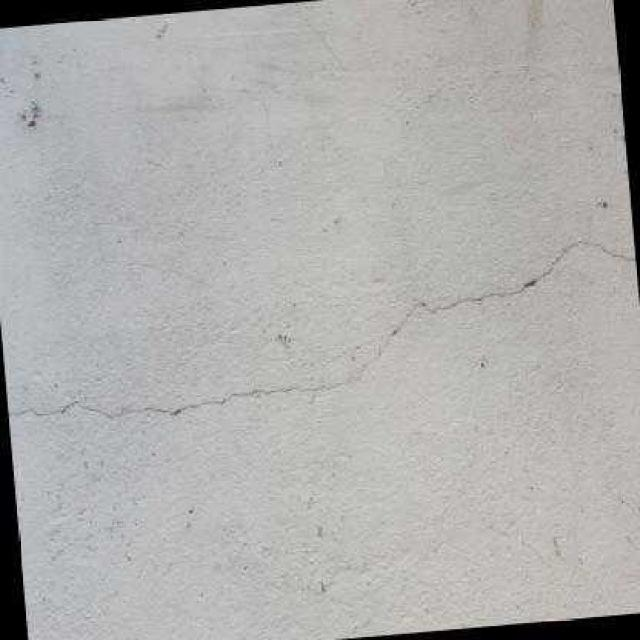D00: (7, 233, 636, 420)
